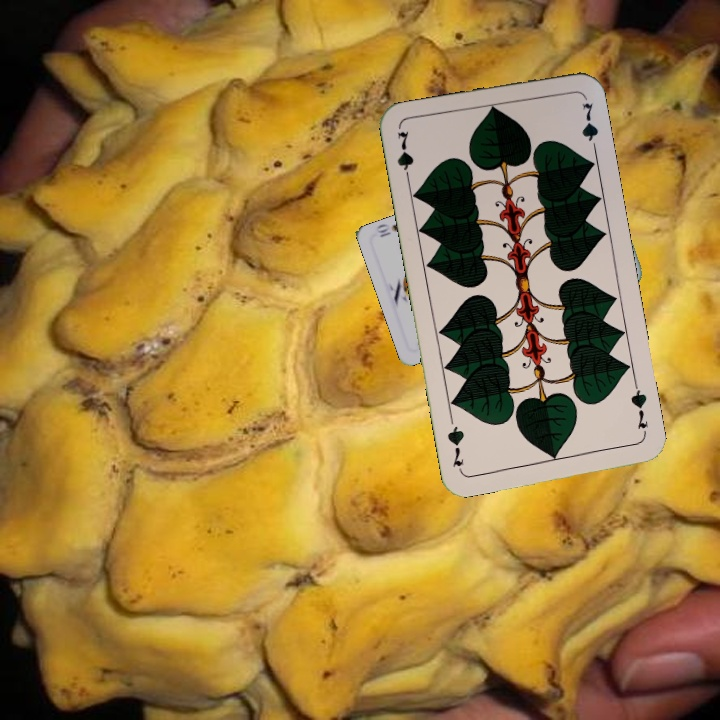G7: (393, 127, 417, 186), (626, 380, 651, 432)
